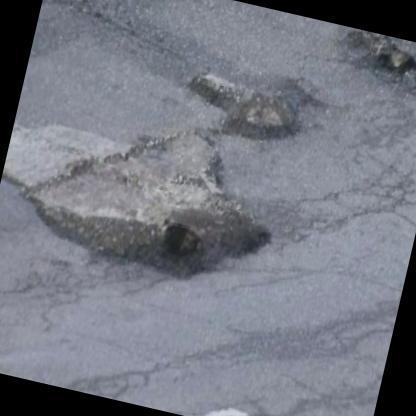pothole: (21, 124, 272, 283), (188, 67, 304, 142), (345, 24, 415, 91)
